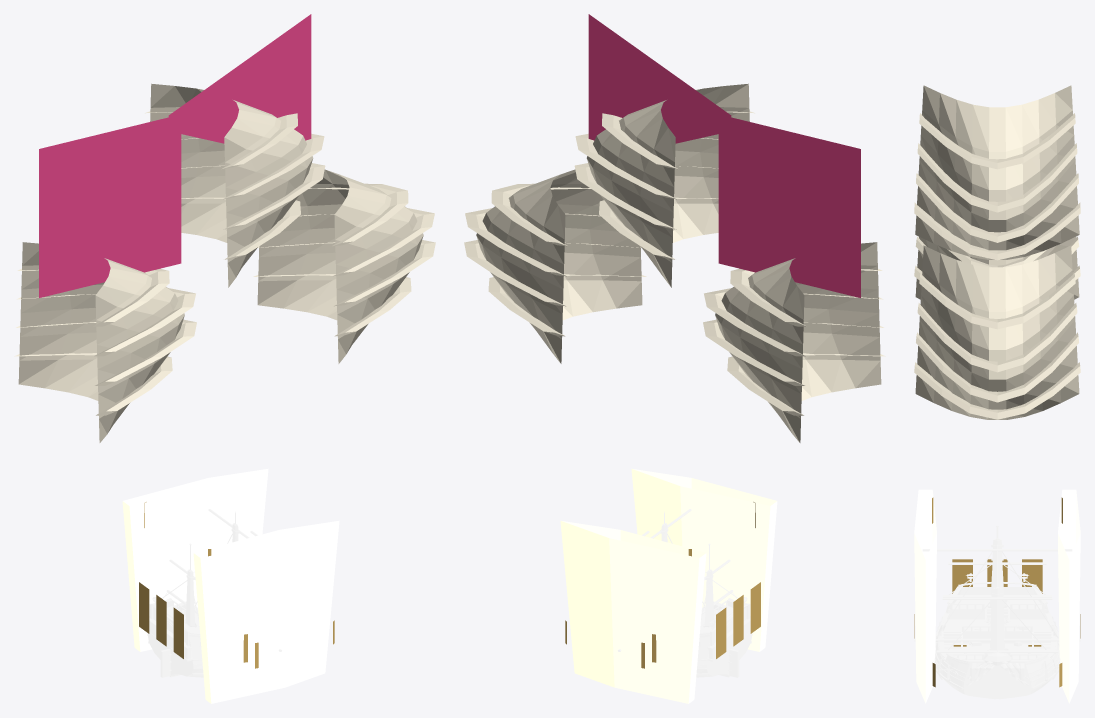
Rendered from navire-jonque-leger.glb.
3 renders of one model, left to right at view 1: azimuth 30°, elevation 25°; view 2: azimuth 150°, elevation 25°; view 3: azimuth 270°, elevation 25°, orthographic.
Visible parts, largest first — view 1: navire_lumieres.007, drapeau.012, voile_artimon.011, voile_misaine.012, voile_grande.012, flamme.012, navire_corps.012, navire_vitres.007; view 2: navire_lumieres.007, drapeau.012, voile_artimon.011, voile_misaine.012, voile_grande.012, flamme.012, navire_corps.012, navire_vitres.007; view 3: voile_grande.012, voile_misaine.012, navire_corps.012, navire_lumieres.007, voile_artimon.011, navire_vitres.007.
Boxes of the visible parts, bbox=[...] form: navire_lumieres.007: bbox=[122, 468, 339, 703]; drapeau.012: bbox=[39, 114, 181, 297]; voile_artimon.011: bbox=[14, 242, 196, 442]; voile_misaine.012: bbox=[253, 169, 435, 363]; voile_grande.012: bbox=[145, 83, 325, 287]; flamme.012: bbox=[168, 14, 311, 143]; navire_corps.012: bbox=[147, 509, 281, 677]; navire_vitres.007: bbox=[139, 502, 334, 668]; navire_lumieres.007: bbox=[560, 468, 777, 703]; drapeau.012: bbox=[718, 114, 860, 297]; voile_artimon.011: bbox=[703, 242, 885, 442]; voile_misaine.012: bbox=[464, 169, 646, 363]; voile_grande.012: bbox=[574, 83, 754, 287]; flamme.012: bbox=[588, 14, 731, 143]; navire_corps.012: bbox=[618, 509, 752, 677]; navire_vitres.007: bbox=[565, 502, 760, 668]; voile_grande.012: bbox=[914, 85, 1080, 260]; voile_misaine.012: bbox=[914, 245, 1080, 419]; navire_corps.012: bbox=[914, 525, 1080, 699]; navire_lumieres.007: bbox=[914, 489, 1080, 703]; voile_artimon.011: bbox=[914, 236, 1080, 299]; navire_vitres.007: bbox=[914, 497, 1080, 687].
Size of the model in its own units: 5.57 by 8.42 by 2.
